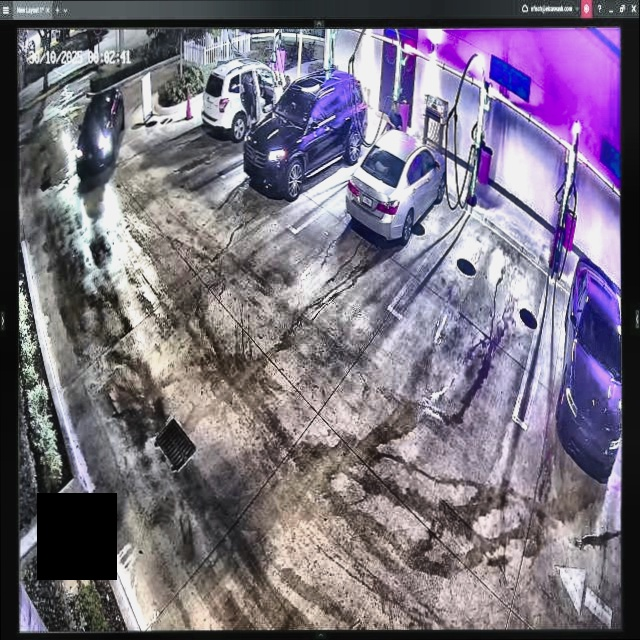Car: (242, 67, 368, 197), (342, 129, 448, 242), (200, 64, 296, 143)
